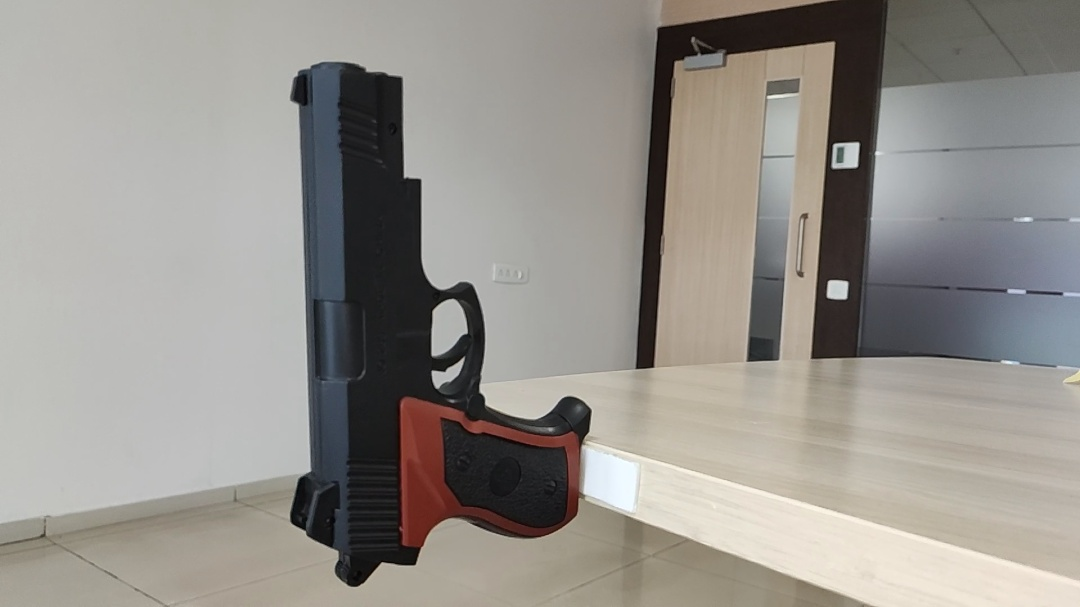gun: (288, 57, 596, 585)
